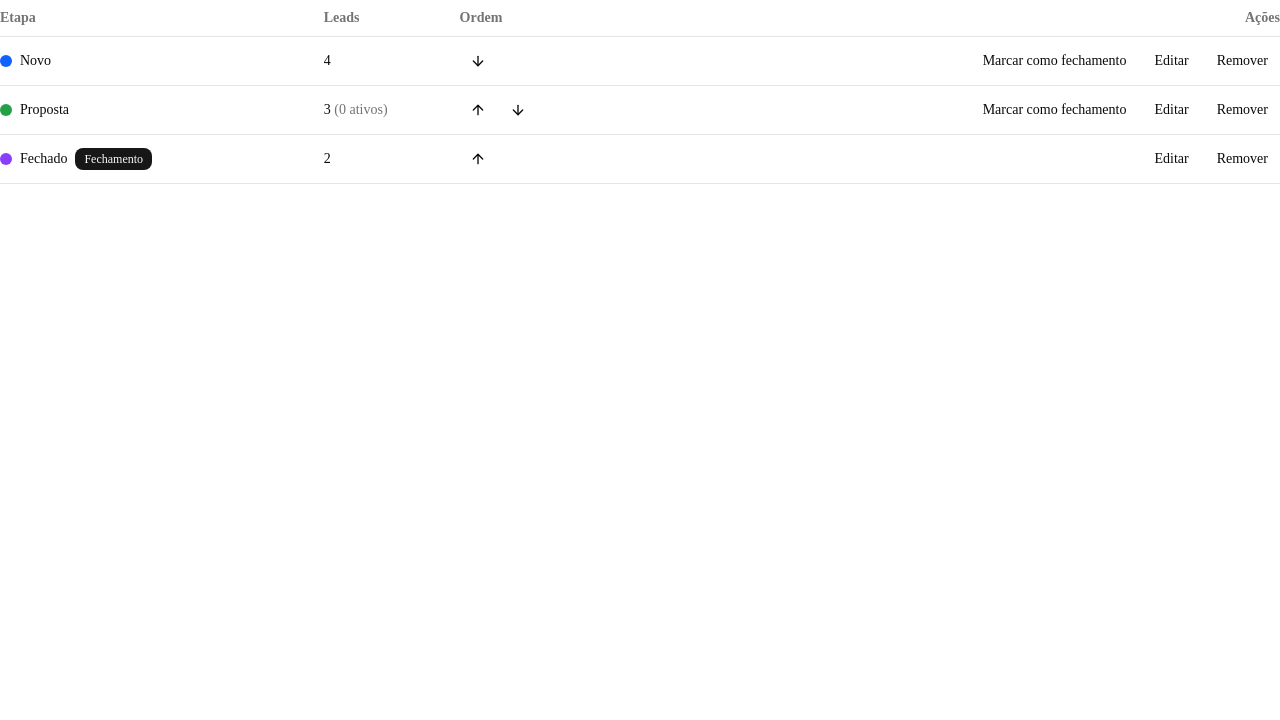
it: EtapasTable — edição › abrir, digitar, Cancelar e reabrir mostra o nome ORIGINAL — não a edição abandonada
Click the button with aria-label "Editar etapa". click: x=1172, y=61
box: [1142,45,1201,77]
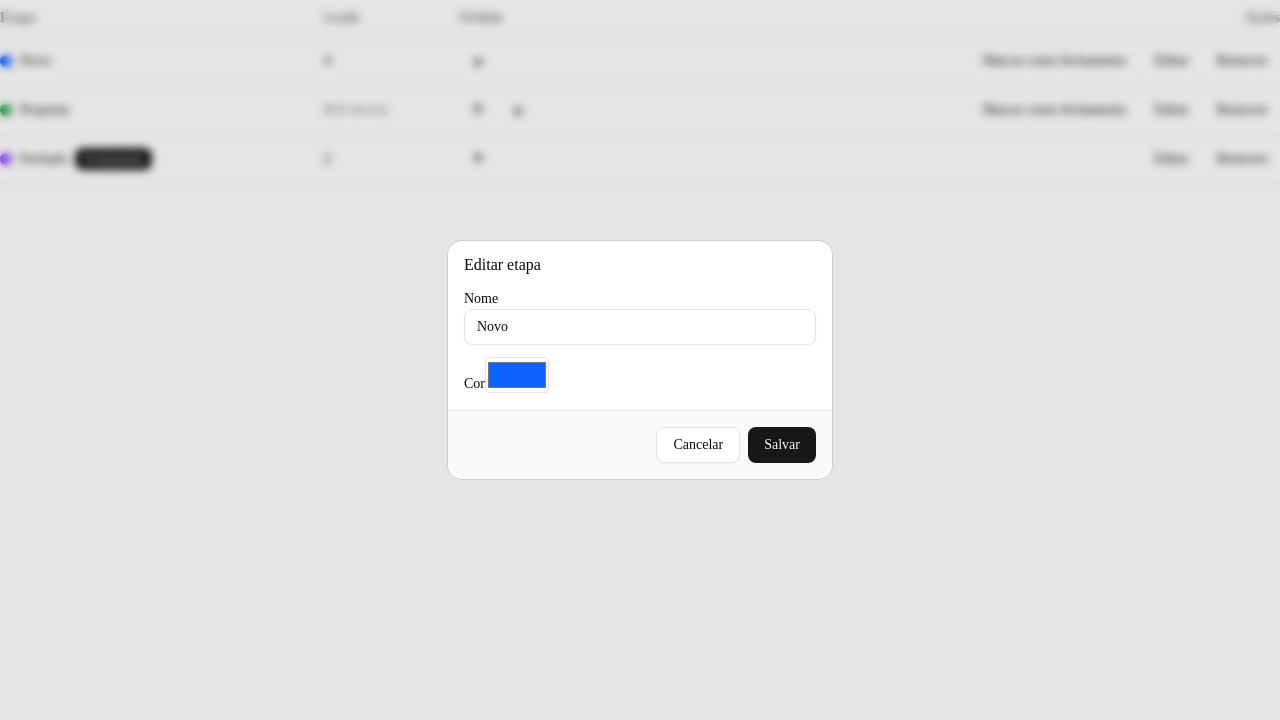
Replace the text in the field labelled "Nome" with "Edição abandonada". click: x=640, y=327
box: [464,309,816,345]
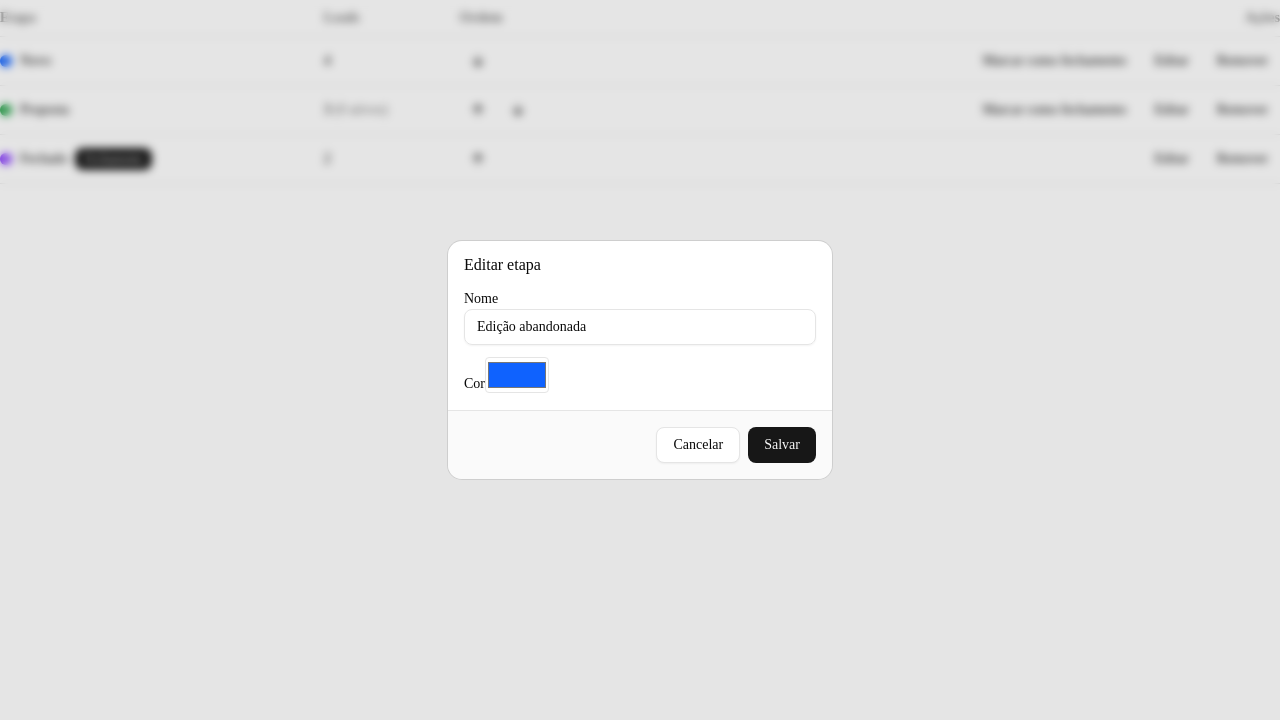
Click the button "Cancelar". click: x=698, y=445
box: [656,427,740,463]
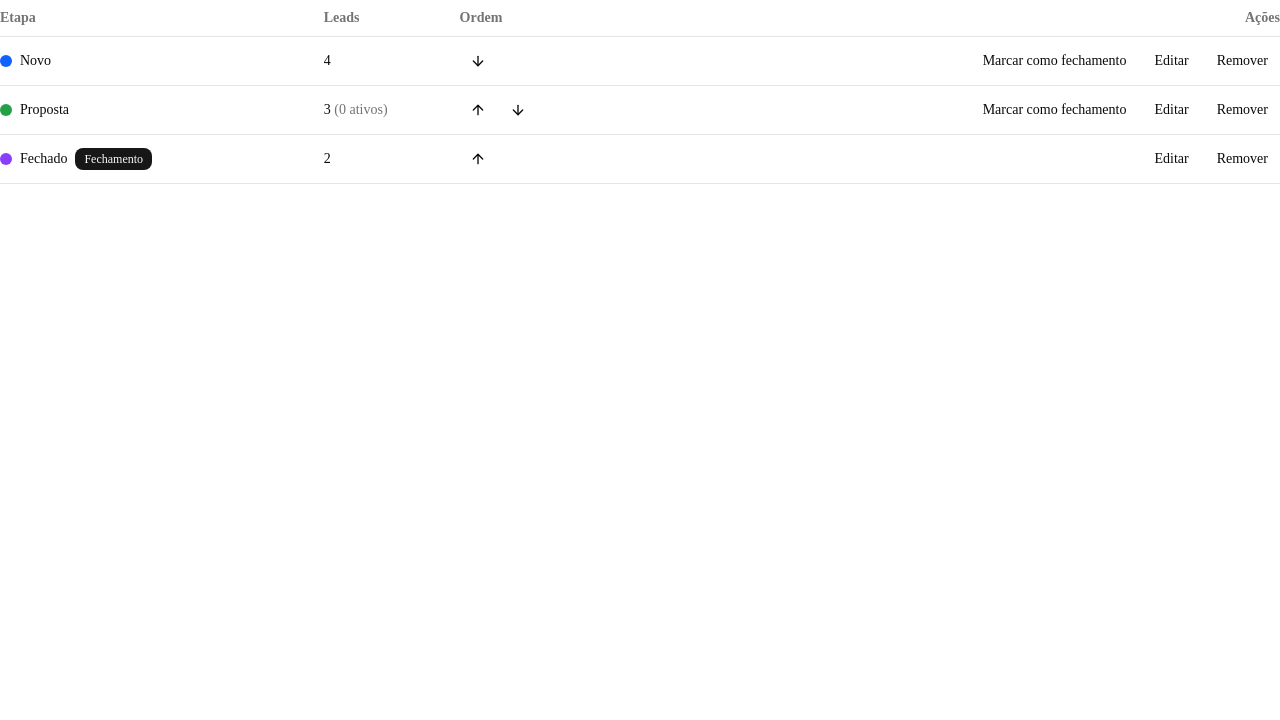
Now the label labelled "Nome" is gone
Click the button with aria-label "Editar etapa". click: x=1172, y=61
box: [1142,45,1201,77]
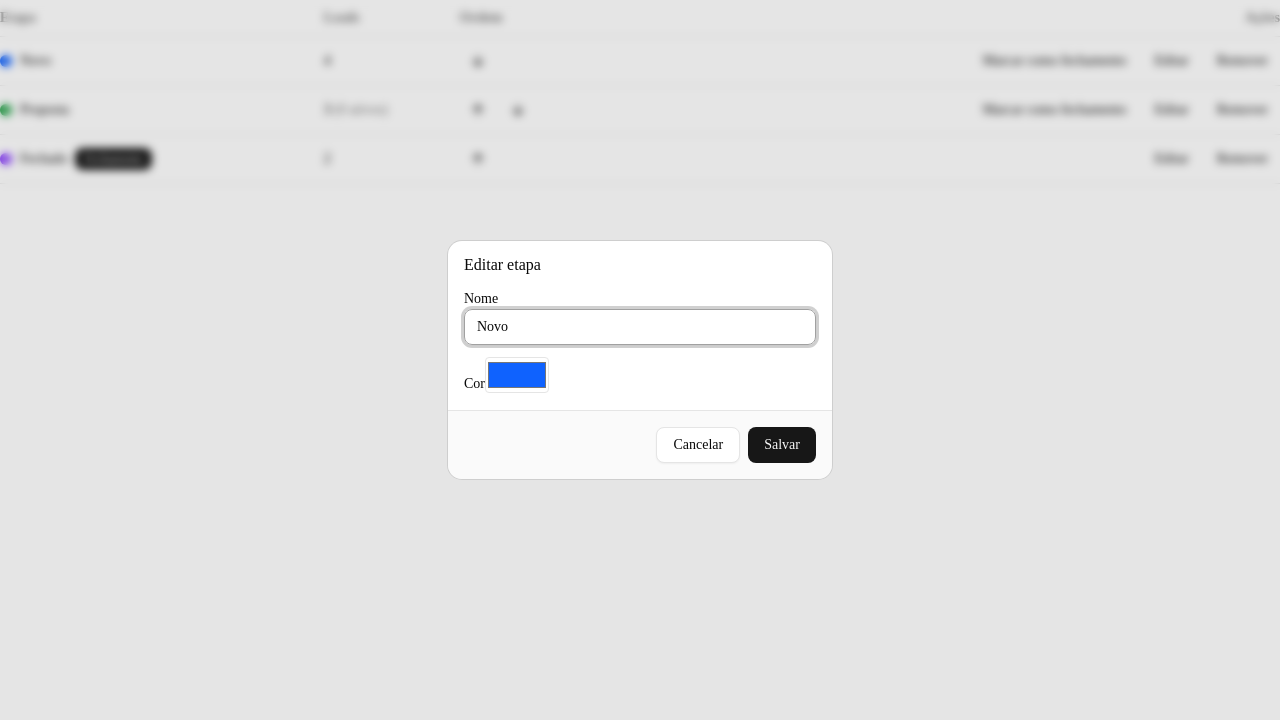
Now the field labelled "Nome" holds "Novo", box [464,309,816,345]
